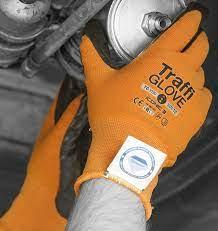gloves: (73, 9, 213, 223)
